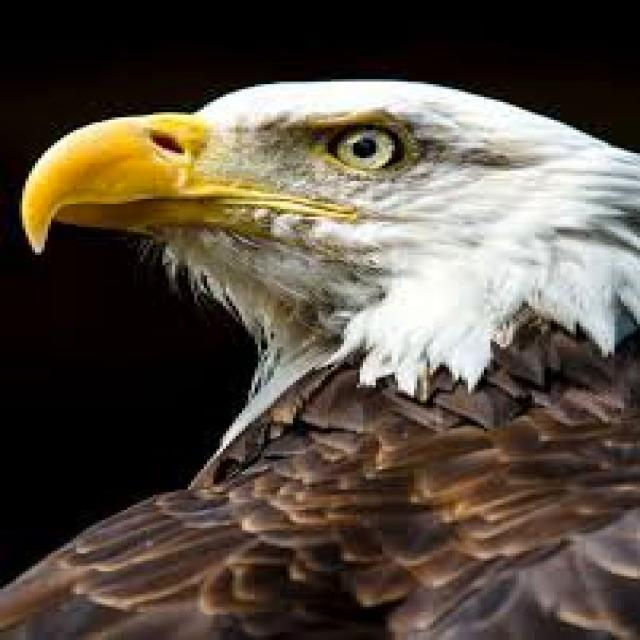eagle: (0, 82, 637, 637)
